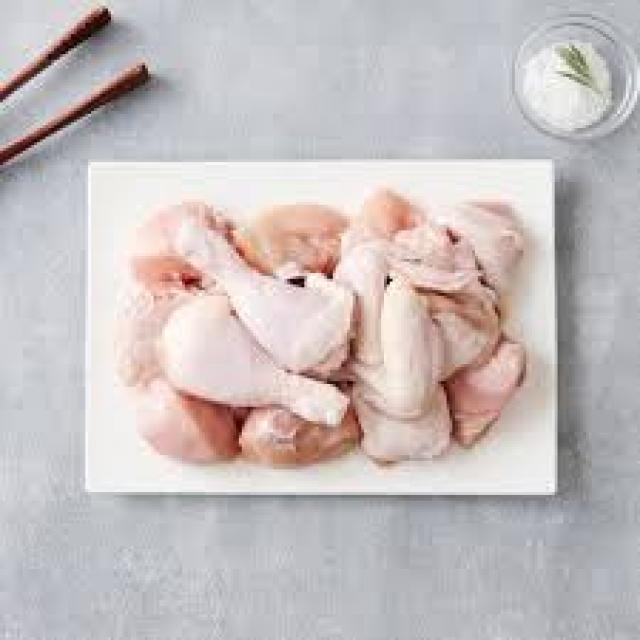chicken: (353, 188, 525, 384), (162, 300, 353, 428), (119, 201, 224, 381), (349, 359, 459, 465), (125, 376, 243, 466), (437, 332, 533, 436), (236, 398, 362, 468), (238, 207, 352, 273)
